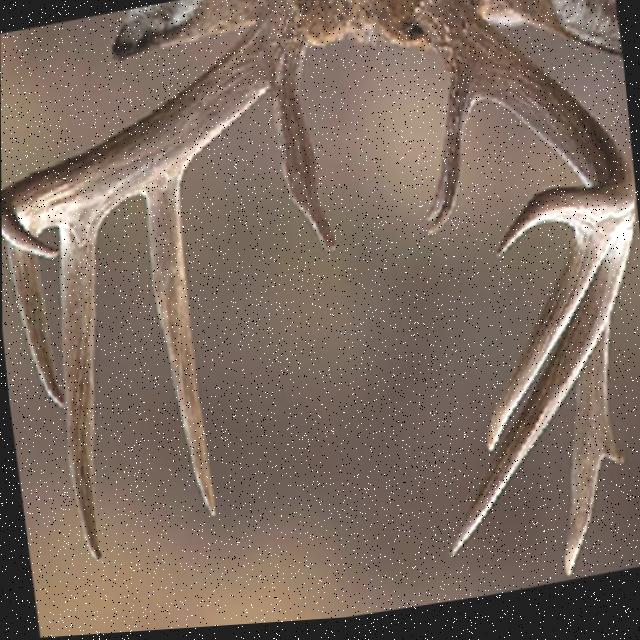L-G1: (426, 73, 480, 245)
R-F: (1, 0, 310, 262)
R-G1: (268, 51, 335, 257)
R-G2: (143, 181, 215, 519)
R-G3: (57, 217, 103, 563)
